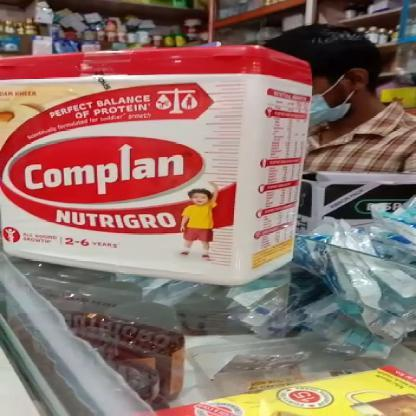Complan Nutrigro Badam Kheer: (5, 48, 258, 266)
